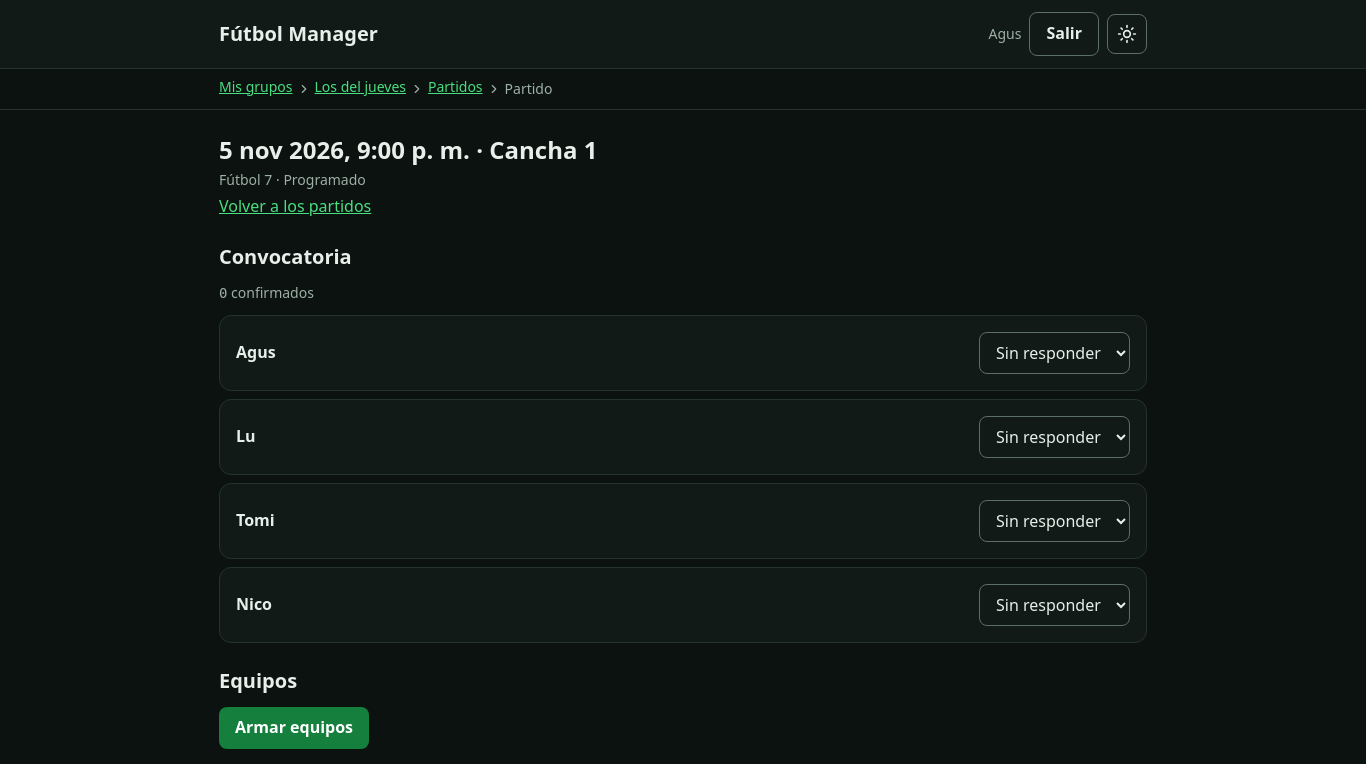
LineupBuilder: Otra opción › recorre las opciones en orden, vuelve a la primera y no repite la petición a balance
Step 1. Click the button "Armar equipos" → {"x": 294, "y": 728}, box left=219, top=707, right=369, bottom=749
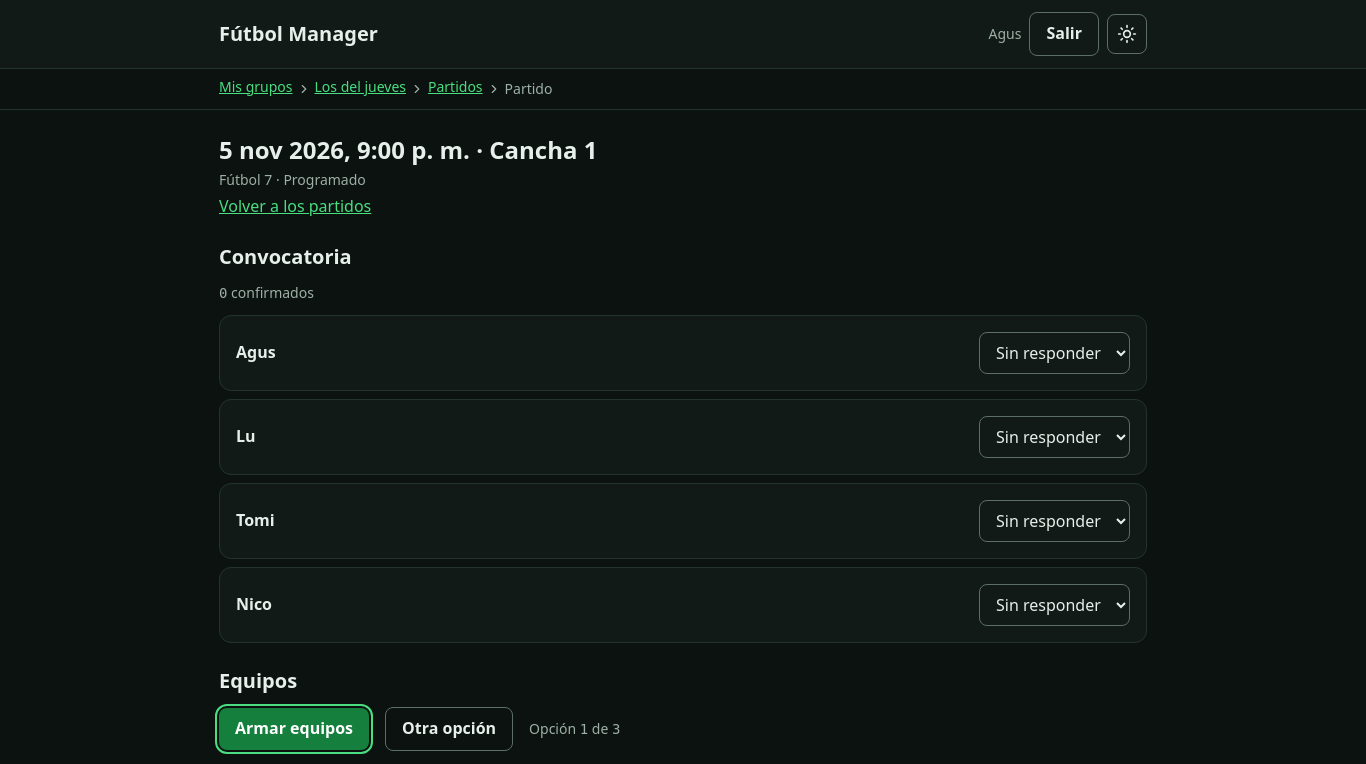
Expected: the text "Opción 1 de 3" is shown, left=529, top=719, right=620, bottom=739
Expected: the button "Otra opción" is enabled
Step 2. Click the button "Otra opción" → {"x": 449, "y": 729}, box left=385, top=707, right=513, bottom=751
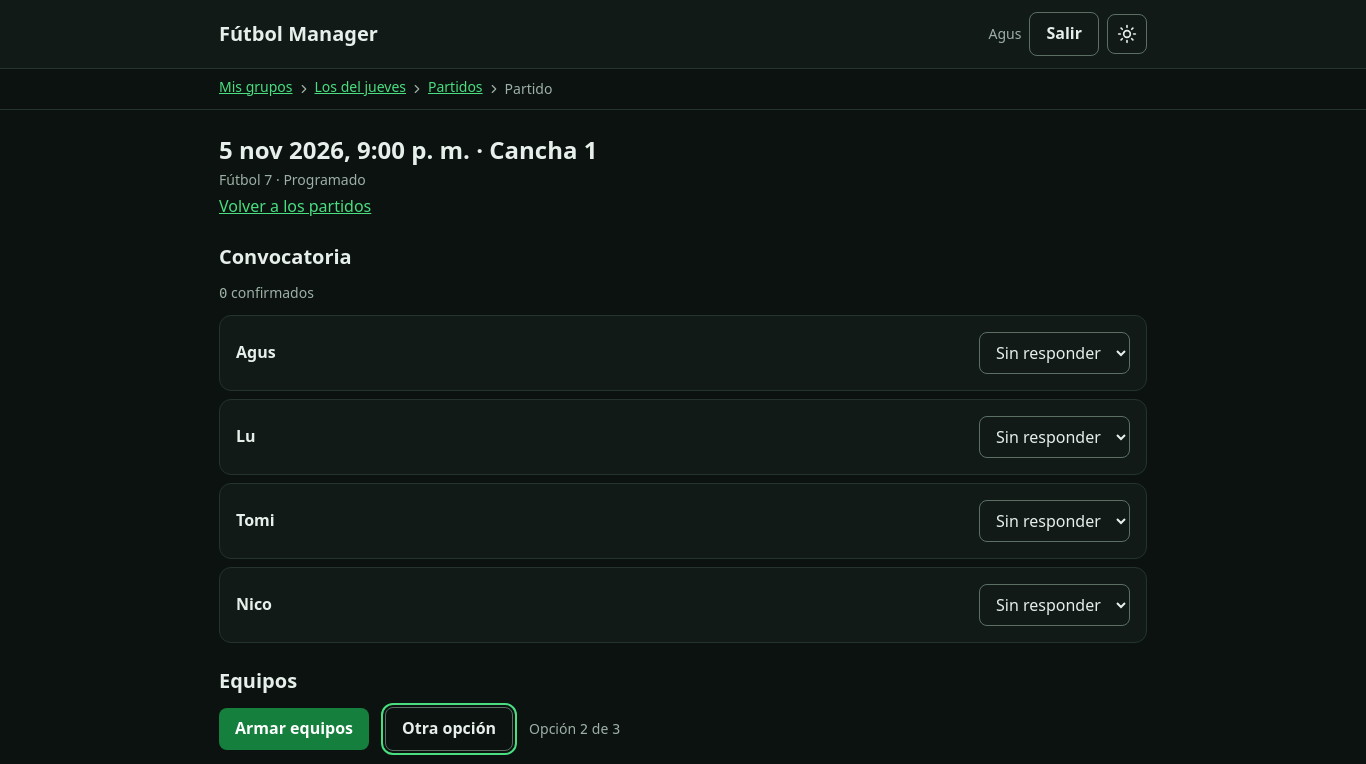
Expected: the text "Opción 2 de 3" is shown, left=529, top=719, right=620, bottom=739
Step 3. Click the button "Otra opción" → {"x": 449, "y": 729}, box left=385, top=707, right=513, bottom=751
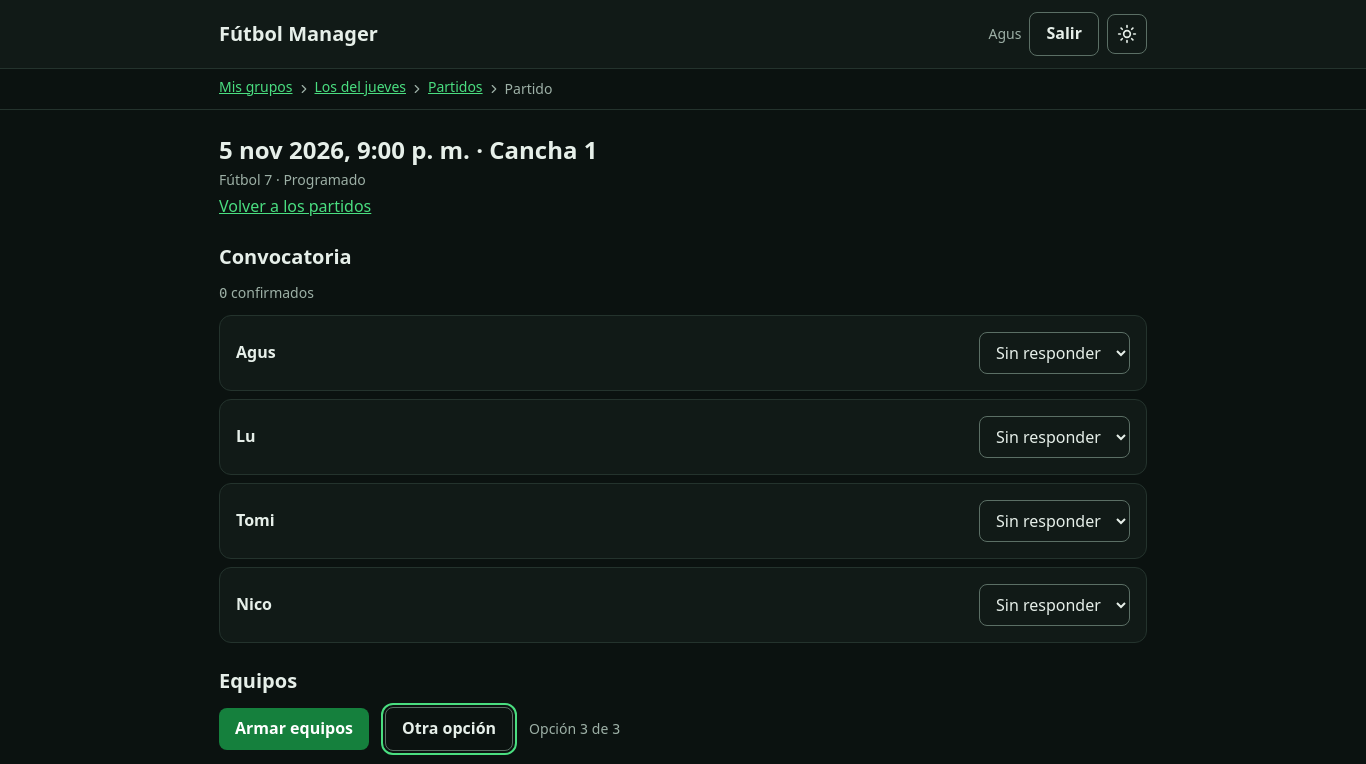
Expected: the text "Opción 3 de 3" is shown, left=529, top=719, right=620, bottom=739
Step 4. Click the button "Otra opción" → {"x": 449, "y": 729}, box left=385, top=707, right=513, bottom=751
(page scrolled)
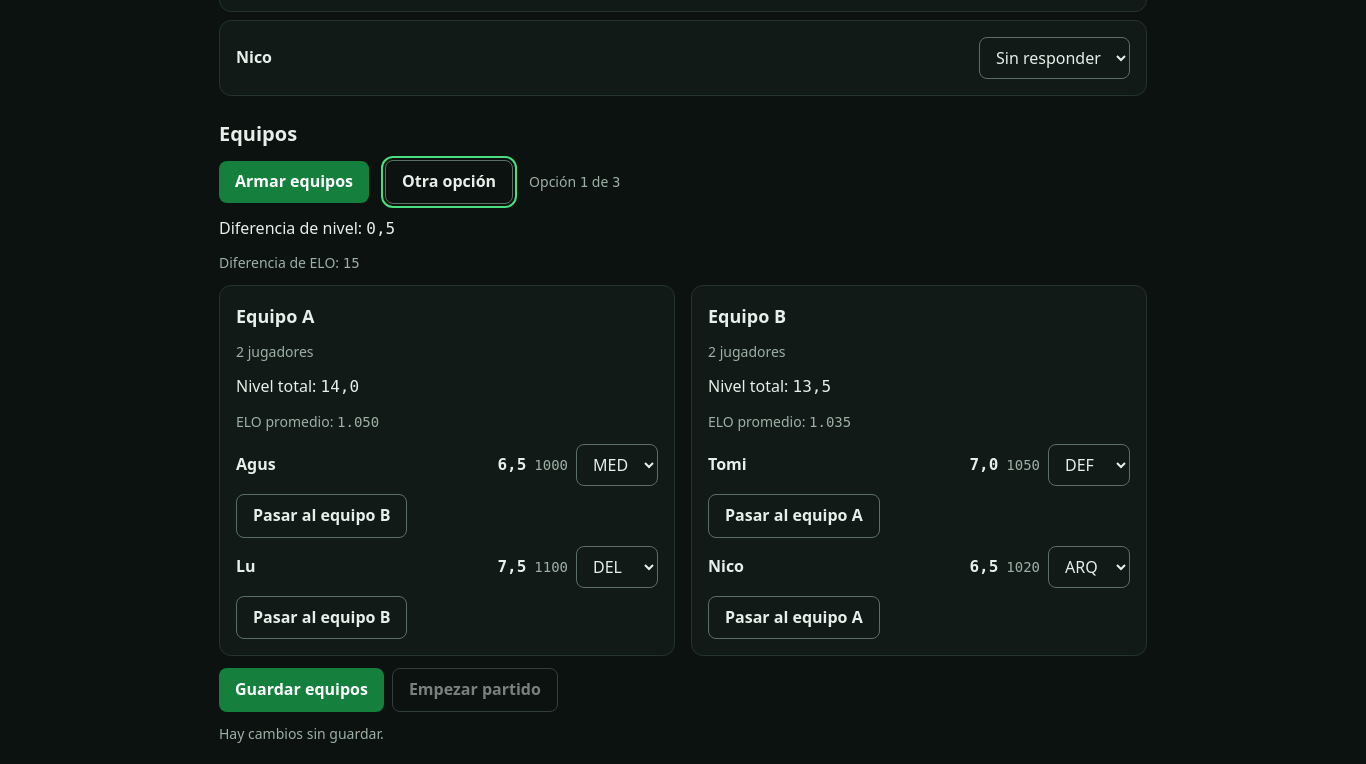
Expected: the text "Opción 1 de 3" is shown, left=529, top=172, right=620, bottom=192
Expected: the dropdown named "Puesto de Lu" is shown, left=576, top=546, right=658, bottom=588
